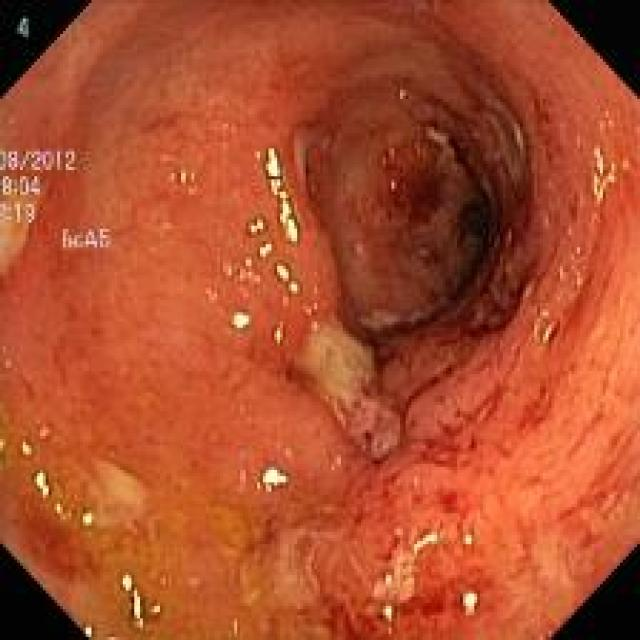ulcerative-colitis-grade-3: (0, 3, 640, 640)
